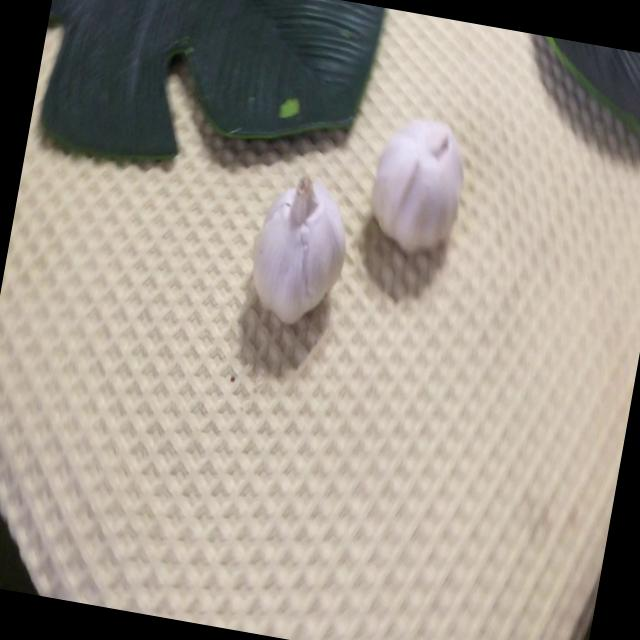bawang: (238, 160, 360, 336), (355, 105, 478, 262)
